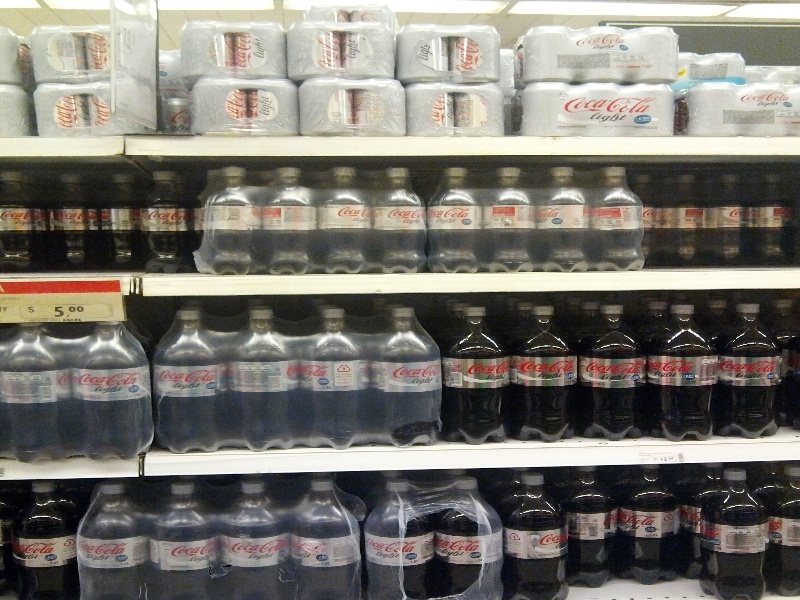lemonade: (74, 320, 155, 458), (299, 308, 377, 447), (225, 307, 298, 449), (154, 310, 224, 450), (645, 305, 716, 439), (577, 306, 646, 443), (510, 306, 578, 444), (375, 308, 442, 446), (443, 309, 511, 443), (720, 303, 782, 440), (503, 473, 568, 599)
